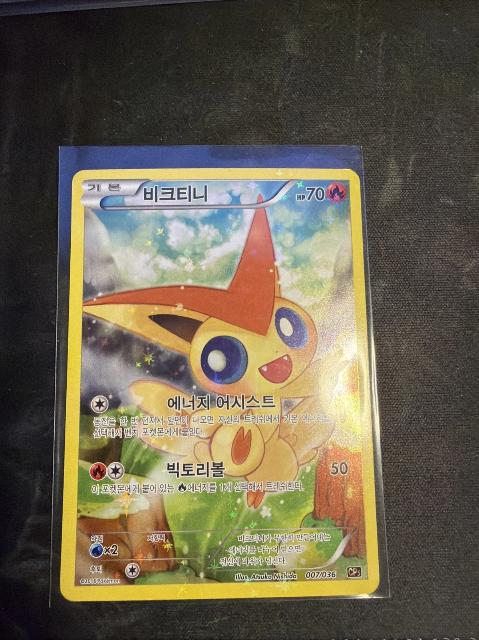Card: (57, 163, 388, 607)
Name: (139, 180, 214, 207)
